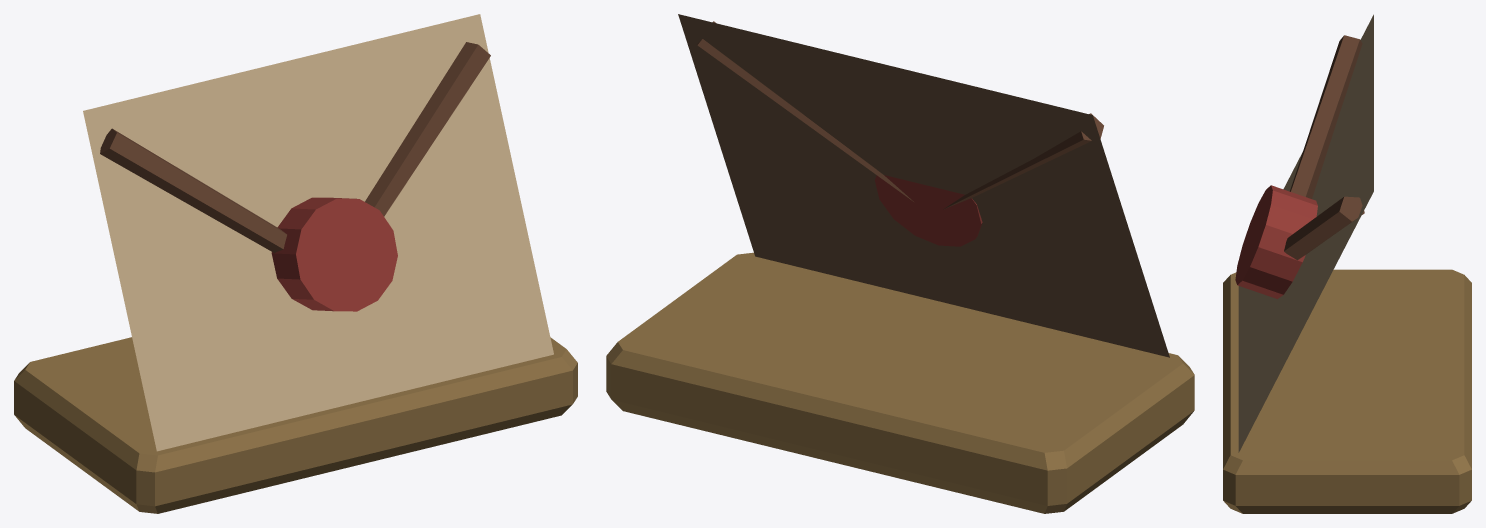
The model's file is sold_ticket.glb.
3 renders of one model, left to right at view 1: azimuth 30°, elevation 25°; view 2: azimuth 150°, elevation 25°; view 3: azimuth 270°, elevation 25°, orthographic. The views are drawn at different scales.
Parts seen in each view (by area): view 1: sold_ticket; view 2: sold_ticket; view 3: sold_ticket.
Part boxes in pixels (x1=…): sold_ticket: x1=14, y1=14, x2=577, y2=513; sold_ticket: x1=606, y1=14, x2=1194, y2=513; sold_ticket: x1=1223, y1=14, x2=1471, y2=513.
Bounding box in the file's own units: 0.3 × 0.224 × 0.16.
